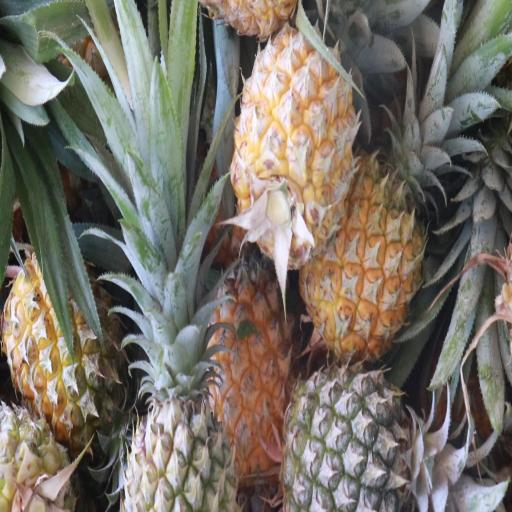------------------------------: (1, 248, 121, 440)
Pineapple - v8 v1: (234, 27, 353, 263), (307, 157, 427, 357), (204, 251, 293, 478)
